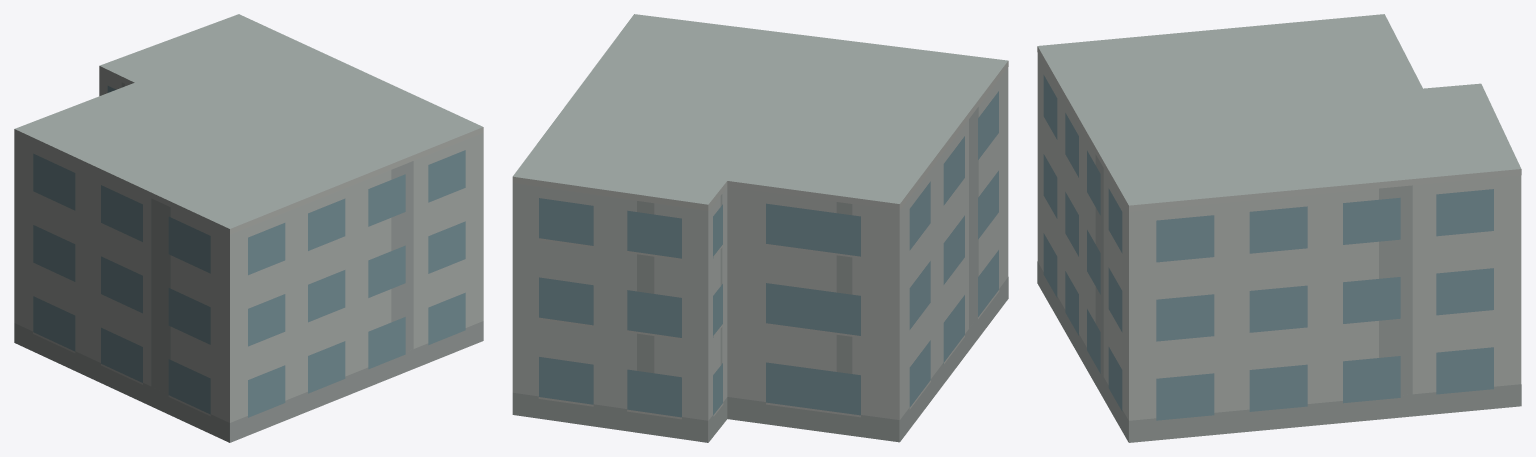
The model's file is survey-upis-32771467.glb.
3 views of the same model, side by side, from view 1: azimuth 30°, elevation 25°; view 2: azimuth 150°, elevation 25°; view 3: azimuth 270°, elevation 25° (orthographic). The views are drawn at different scales.
Parts seen in each view (by area): view 1: survey-upis-32771467.tmp; view 2: survey-upis-32771467.tmp; view 3: survey-upis-32771467.tmp.
Part boxes in pixels (x1,y1,x2,y2): survey-upis-32771467.tmp: [14, 14, 483, 442]; survey-upis-32771467.tmp: [512, 14, 1008, 442]; survey-upis-32771467.tmp: [1037, 14, 1521, 442].
Bounding box in the file's own units: 15.85 × 9.15 × 16.92.
